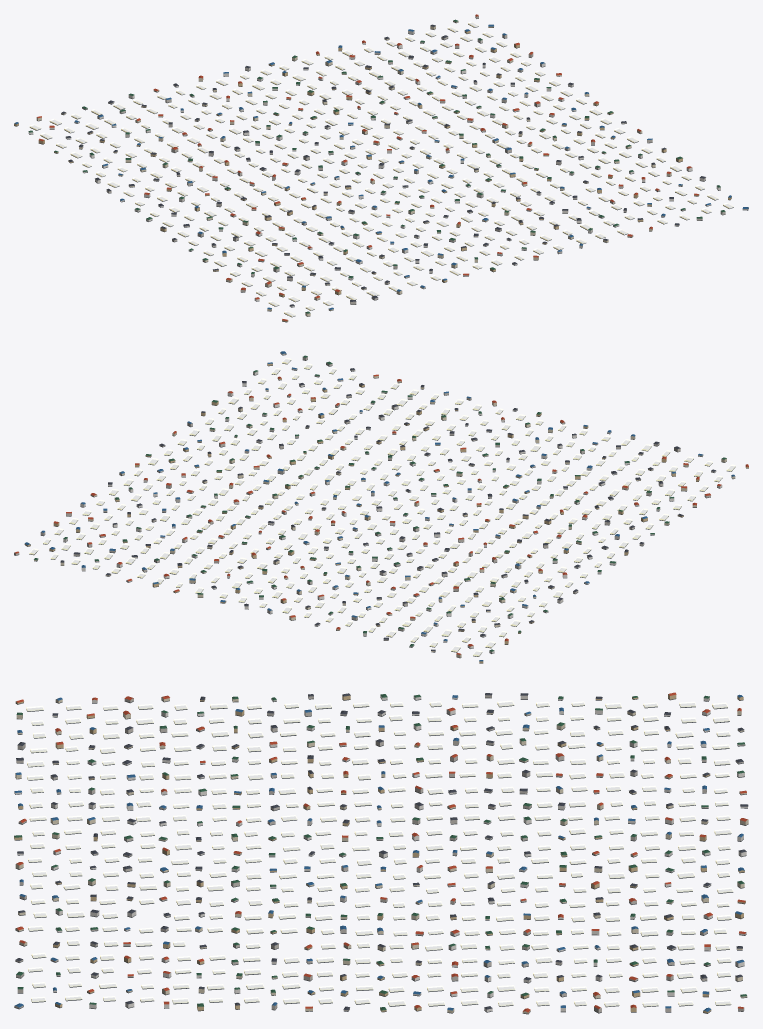
File: buildings_T_W01_S04.glb
The picture shows the model from 3 angles, top to bottom: view 1: azimuth 30°, elevation 25°; view 2: azimuth 150°, elevation 25°; view 3: azimuth 270°, elevation 25°; orthographic projection. The views are drawn at different scales.
Visible parts, largest first — view 1: T_W01_S04_roofs_agri_greenhouse_arch, T_W01_S04_slope_seating_foundations, T_W01_S04_walls_wall_modern_warm_white, T_W01_S04_roofs_roof_slate_French_villa_hip, T_W01_S04_walls_wall_dalat_cream_stucco, T_W01_S04_walls_wall_pastel_sand_gray, T_W01_S04_walls_wall_french_ochre_villa, T_W01_S04_roofs_roof_pine_green_hip, T_W01_S04_roofs_roof_terracotta_gable, T_W01_S04_roofs_roof_highland_blue_gable; view 2: T_W01_S04_roofs_agri_greenhouse_arch, T_W01_S04_slope_seating_foundations, T_W01_S04_walls_wall_modern_warm_white, T_W01_S04_roofs_roof_slate_French_villa_hip, T_W01_S04_walls_wall_pastel_sand_gray, T_W01_S04_walls_wall_dalat_cream_stucco, T_W01_S04_walls_wall_french_ochre_villa, T_W01_S04_roofs_roof_pine_green_hip, T_W01_S04_roofs_roof_terracotta_gable, T_W01_S04_roofs_roof_highland_blue_gable; view 3: T_W01_S04_roofs_agri_greenhouse_arch, T_W01_S04_slope_seating_foundations, T_W01_S04_walls_wall_modern_warm_white, T_W01_S04_roofs_roof_slate_French_villa_hip, T_W01_S04_walls_wall_pastel_sand_gray, T_W01_S04_walls_wall_dalat_cream_stucco, T_W01_S04_walls_wall_french_ochre_villa, T_W01_S04_roofs_roof_pine_green_hip, T_W01_S04_roofs_roof_terracotta_gable, T_W01_S04_roofs_roof_highland_blue_gable.
Boxes of the visible parts, <box> form: T_W01_S04_roofs_agri_greenhouse_arch: <box>29,21,733,316</box>; T_W01_S04_slope_seating_foundations: <box>14,17,748,322</box>; T_W01_S04_walls_wall_modern_warm_white: <box>28,30,720,307</box>; T_W01_S04_roofs_roof_slate_French_villa_hip: <box>61,24,705,306</box>; T_W01_S04_walls_wall_dalat_cream_stucco: <box>36,21,682,316</box>; T_W01_S04_walls_wall_pastel_sand_gray: <box>82,16,748,304</box>; T_W01_S04_walls_wall_french_ochre_villa: <box>14,26,731,321</box>; T_W01_S04_roofs_roof_pine_green_hip: <box>28,19,725,313</box>; T_W01_S04_roofs_roof_terracotta_gable: <box>37,14,698,320</box>; T_W01_S04_roofs_roof_highland_blue_gable: <box>14,24,748,309</box>; T_W01_S04_roofs_agri_greenhouse_arch: <box>29,358,735,656</box>; T_W01_S04_slope_seating_foundations: <box>14,353,748,663</box>; T_W01_S04_walls_wall_modern_warm_white: <box>63,368,722,653</box>; T_W01_S04_roofs_roof_slate_French_villa_hip: <box>60,368,715,651</box>; T_W01_S04_walls_wall_pastel_sand_gray: <box>14,352,710,647</box>; T_W01_S04_walls_wall_dalat_cream_stucco: <box>34,375,735,657</box>; T_W01_S04_walls_wall_french_ochre_villa: <box>24,363,748,663</box>; T_W01_S04_roofs_roof_pine_green_hip: <box>34,355,726,651</box>; T_W01_S04_roofs_roof_terracotta_gable: <box>15,374,748,654</box>; T_W01_S04_roofs_roof_highland_blue_gable: <box>25,351,735,661</box>; T_W01_S04_roofs_agri_greenhouse_arch: <box>26,700,733,1006</box>; T_W01_S04_slope_seating_foundations: <box>14,697,748,1014</box>; T_W01_S04_walls_wall_modern_warm_white: <box>14,695,747,1011</box>; T_W01_S04_roofs_roof_slate_French_villa_hip: <box>15,693,748,1010</box>; T_W01_S04_walls_wall_pastel_sand_gray: <box>14,695,745,1012</box>; T_W01_S04_walls_wall_dalat_cream_stucco: <box>15,697,748,1013</box>; T_W01_S04_walls_wall_french_ochre_villa: <box>14,694,745,1013</box>; T_W01_S04_roofs_roof_pine_green_hip: <box>14,694,746,1010</box>; T_W01_S04_roofs_roof_terracotta_gable: <box>16,692,747,1012</box>; T_W01_S04_roofs_roof_highland_blue_gable: <box>14,694,744,1011</box>.
Bounding box in the file's own units: 1748 × 38.57 × 1754.
